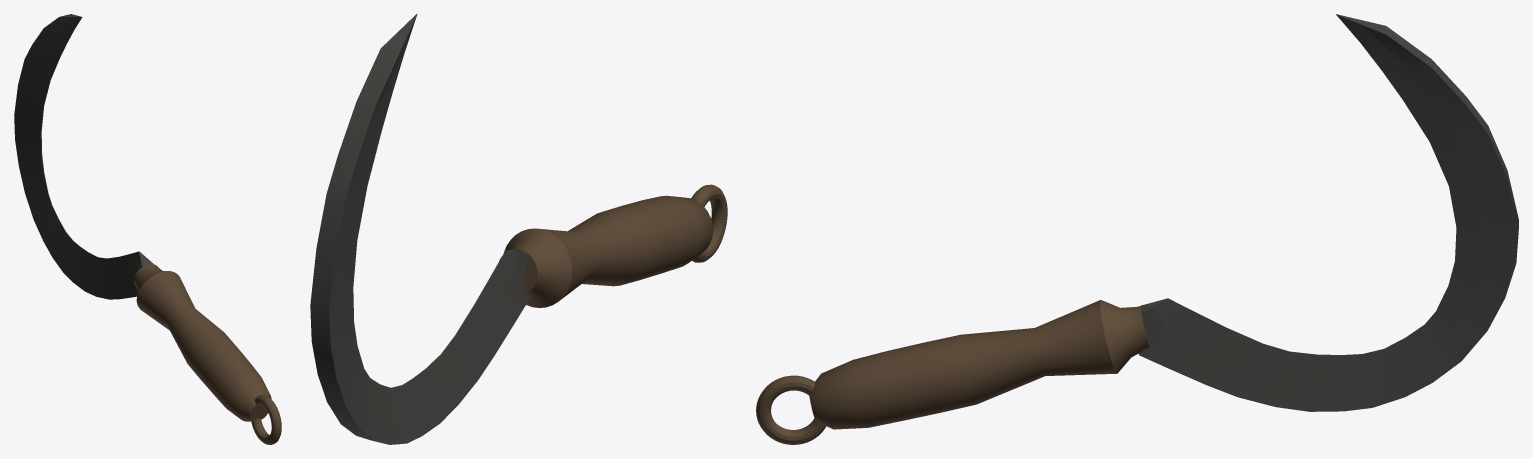
File: sickle.fbx
3 views of the same model, side by side, from view 1: azimuth 30°, elevation 25°; view 2: azimuth 150°, elevation 25°; view 3: azimuth 270°, elevation 25° (orthographic). The views are drawn at different scales.
Parts seen in each view (by area): view 1: 柱体; view 2: 柱体; view 3: 柱体.
Boxes of the visible parts, box(x1,y1,x2,y2) form: 柱体: box(14, 14, 281, 444); 柱体: box(310, 14, 727, 444); 柱体: box(756, 14, 1518, 444).
Size of the model in its own units: 82.75 by 518 by 832.
